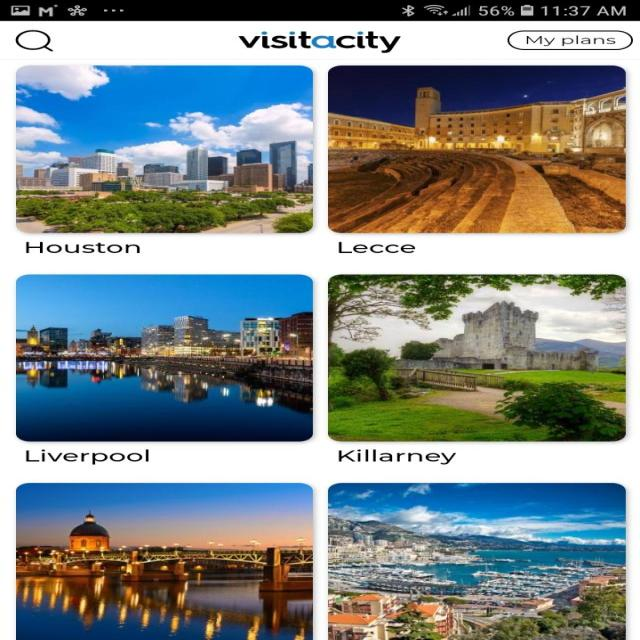Icon: (14, 29, 54, 52)
Image: (327, 65, 626, 233), (15, 65, 313, 233), (327, 274, 626, 441), (15, 274, 313, 441), (15, 482, 313, 640), (327, 482, 626, 639), (237, 31, 401, 53)
Text: (24, 448, 150, 465), (337, 448, 456, 465), (26, 242, 140, 254), (338, 242, 416, 254)
TextButton: (507, 30, 633, 50)
